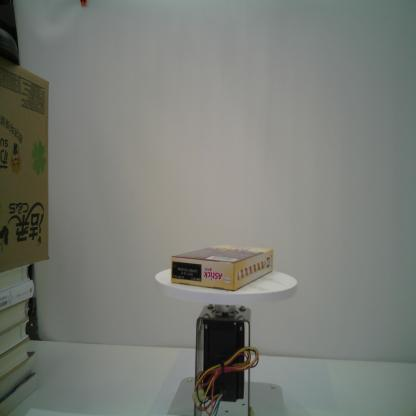Dessert: (171, 244, 273, 291)
